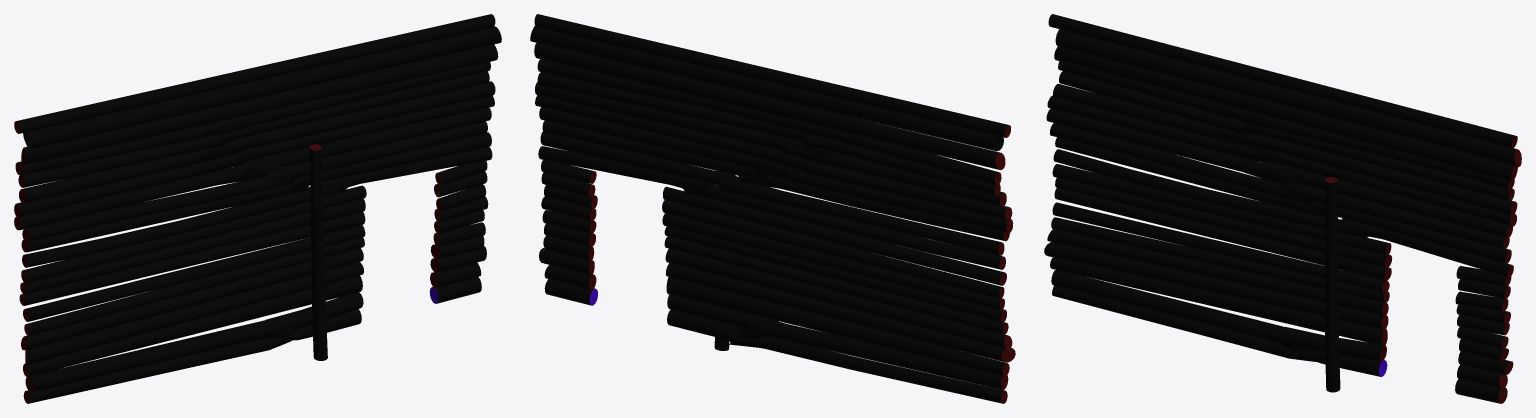
File: SM_SmallLodge_WallBack.fbx
3 renders of one model, left to right at view 1: azimuth 30°, elevation 25°; view 2: azimuth 150°, elevation 25°; view 3: azimuth 330°, elevation 25°, orthographic.
Visible parts, largest first — view 1: SM_ST_SmallLodge01.mo; view 2: SM_ST_SmallLodge01.mo; view 3: SM_ST_SmallLodge01.mo.
Boxes of the visible parts, <box> form: SM_ST_SmallLodge01.mo: <box>14,14,501,403</box>; SM_ST_SmallLodge01.mo: <box>530,14,1015,403</box>; SM_ST_SmallLodge01.mo: <box>1044,14,1521,403</box>.
Bounding box in the file's own units: 1100 × 78.62 × 662.
